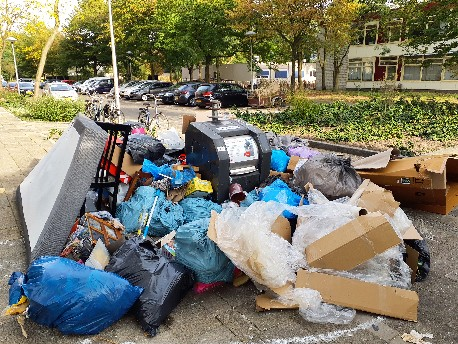Container: (199, 116, 278, 191)
Papier: (305, 266, 417, 315), (374, 149, 458, 211), (317, 223, 386, 271)
Plastic: (268, 190, 312, 297), (316, 195, 358, 220)
Rest: (23, 129, 97, 248), (18, 249, 122, 333), (106, 241, 201, 309), (98, 119, 140, 239), (182, 225, 244, 286), (117, 177, 215, 215), (308, 149, 368, 206), (225, 201, 270, 242), (283, 134, 312, 184), (145, 129, 178, 172)
